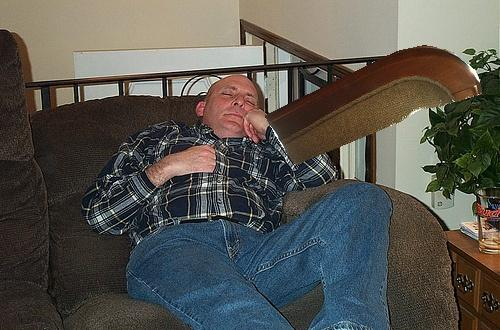tampered: (266, 46, 482, 164)
